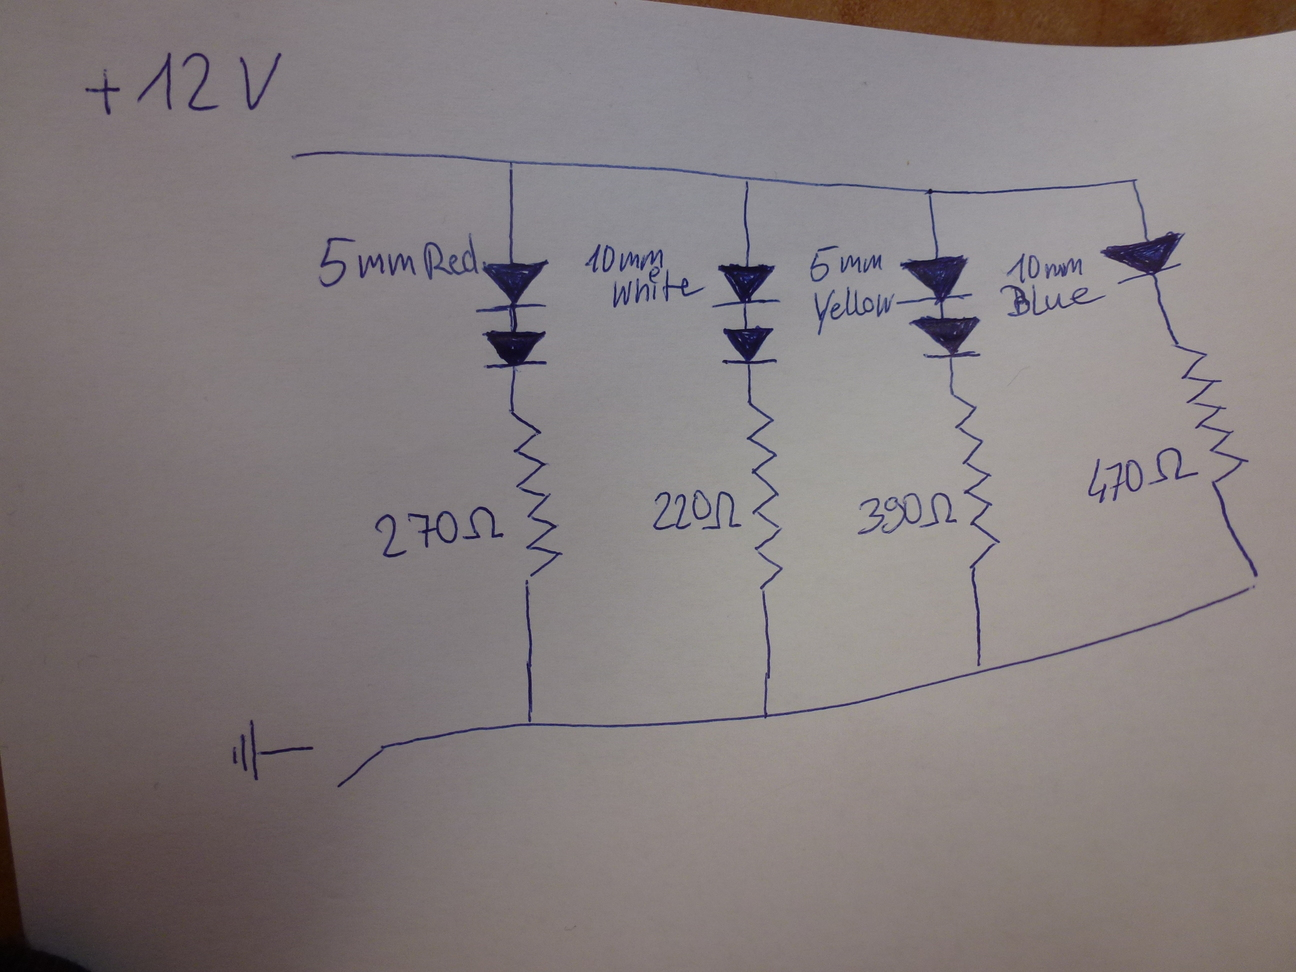diode: (1096, 230, 1187, 287), (473, 257, 549, 315), (895, 253, 975, 307), (907, 314, 985, 361), (710, 262, 782, 310), (479, 328, 550, 371), (719, 325, 779, 367)
gnd: (225, 718, 266, 783)
junction: (1235, 563, 1265, 605), (961, 649, 996, 685), (513, 704, 544, 736), (752, 704, 777, 725), (1124, 173, 1143, 190), (501, 155, 520, 171), (923, 184, 939, 200), (741, 173, 755, 188)
resistor: (1172, 341, 1251, 486), (947, 391, 1003, 573), (508, 410, 564, 585), (744, 399, 785, 595)
switch: (299, 731, 388, 792)
terminal: (279, 145, 312, 169)
text: (80, 44, 291, 121), (311, 234, 488, 290), (371, 504, 506, 560), (1085, 445, 1200, 507), (851, 489, 959, 538), (650, 487, 742, 537), (811, 285, 896, 337), (996, 282, 1106, 320), (608, 265, 707, 307), (582, 241, 668, 279), (1004, 246, 1088, 283), (808, 245, 886, 283)
